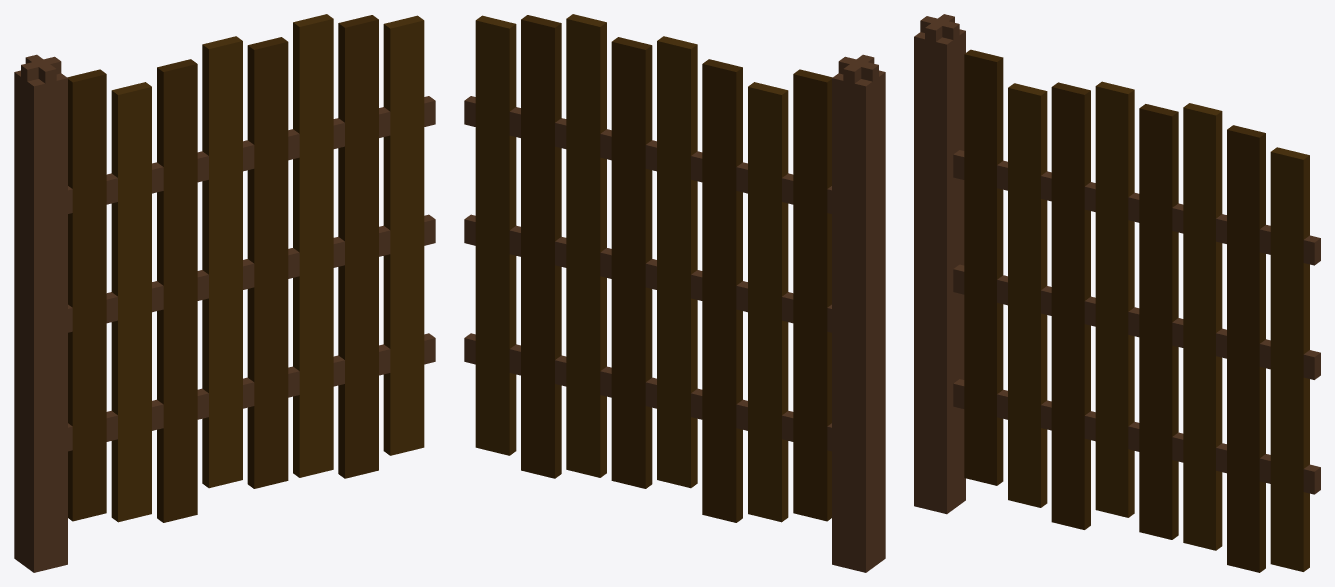
The model's file is Cerca.obj.
The picture shows the model from 3 angles, left to right: view 1: azimuth 30°, elevation 25°; view 2: azimuth 150°, elevation 25°; view 3: azimuth 330°, elevation 25°; orthographic projection. The views are drawn at different scales.
Bounding box in the file's own units: 3.6 × 4.2 × 0.3.
Materials: 1 (1 with a texture image).
